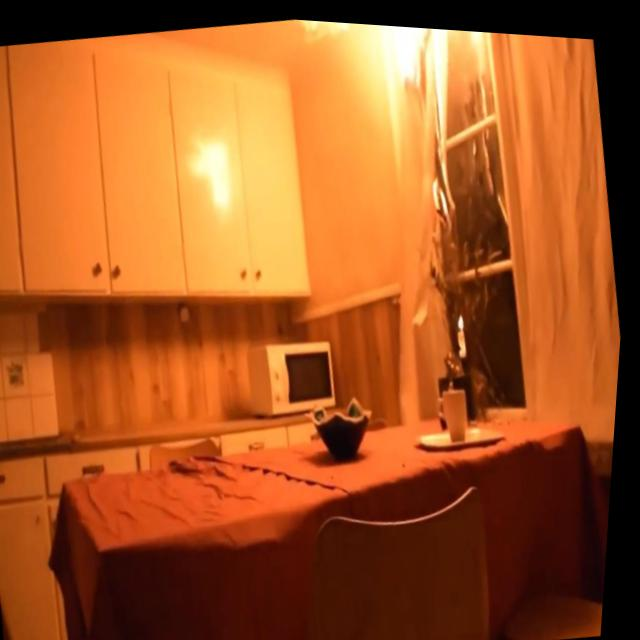fire: (288, 15, 504, 150), (457, 304, 472, 324)
